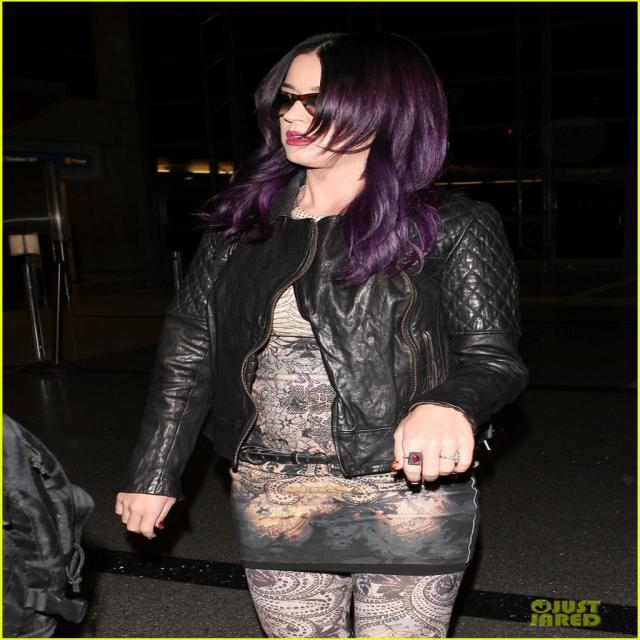Face: (272, 51, 384, 164)
